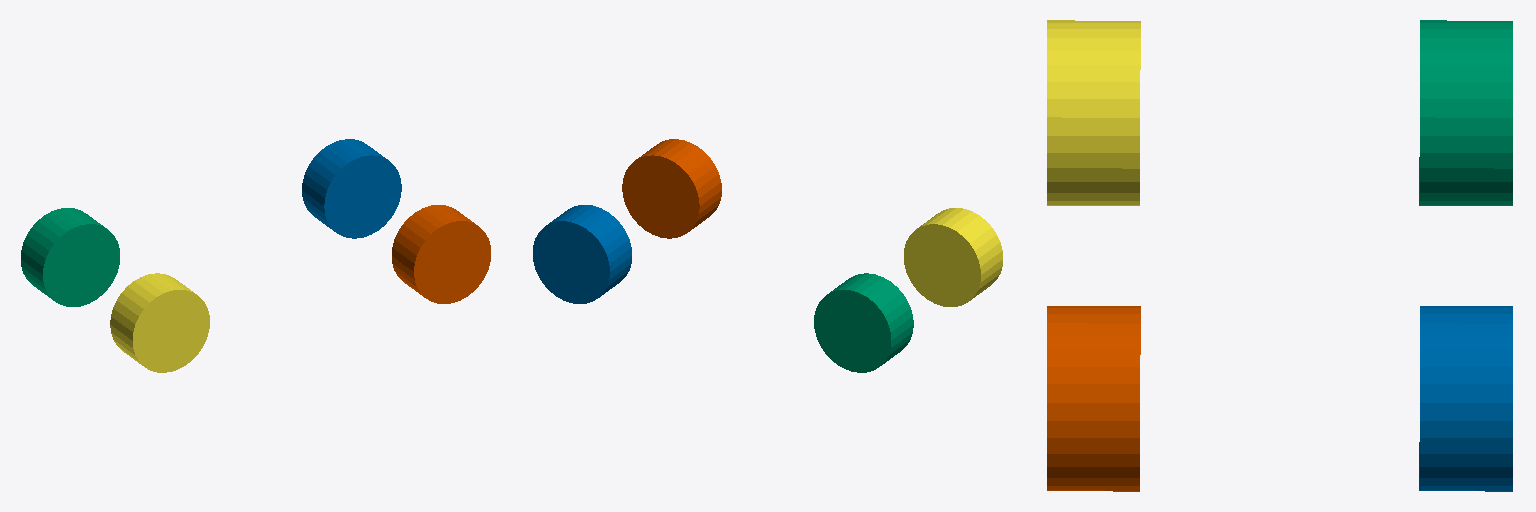
robot.urdf — forklift_robot:
<?xml version="1.0"?>
<robot name="forklift_robot">

  <link name="base_link">
    <origin xyz="-1.0795 -0.5334 0" rpy="0 0 0" />
    <visual>
      <geometry>
        <mesh filename="package://mini_task/model/base_link.dae" />
      </geometry>
    </visual>
    <collision>
      <origin xyz="1.0795 0.5334 1.3716" rpy="0 0 0" />
      <geometry>
        <box size="2.159 1.0668 2.7432" />
      </geometry>
    </collision>
    <inertial>
      <mass value="500" />
      <inertia ixx="206" ixy="0" ixz="-23" iyy="389" iyz="0" izz="316" />
    </inertial>
  </link>

  <link name="fork">
    <origin xyz="1.0795 -0.368600 1" rpy="0 0 0" />
    <visual>
      <geometry>
        <mesh filename="package://mini_task/model/fork.dae" />
      </geometry>
    </visual>
    <collision>
      <geometry>
        <mesh filename="package://mini_task/model/fork.dae" />
      </geometry>
    </collision>
    <inertial>
      <mass value="100" />
      <inertia ixx="0.2" ixy="0" ixz="0" iyy="0.3" iyz="0" izz="0.4" />
    </inertial>
  </link>

  <link name="wheel_back_left">
    <visual>
      <geometry>
        <cylinder radius="0.2" length="0.2" />
      </geometry>
    </visual>
    <collision>
      <geometry>
        <cylinder radius="0.2" length="0.2" />
      </geometry>
    </collision>
    <inertial>
      <mass value="5" />
      <inertia ixx="0.001" ixy="0" ixz="0" iyy="0.0015" iyz="0" izz="0.001" />
    </inertial>
  </link>

  <link name="wheel_back_right">
    <visual>
      <geometry>
        <cylinder radius="0.2" length="0.2" />
      </geometry>
    </visual>
    <collision>
      <geometry>
        <cylinder radius="0.2" length="0.2" />
      </geometry>
    </collision>
    <inertial>
      <mass value="5" />
      <inertia ixx="0.001" ixy="0" ixz="0" iyy="0.0015" iyz="0" izz="0.001" />
    </inertial>
  </link>

  <link name="wheel_front_left">
    <visual>
      <geometry>
        <cylinder radius="0.2" length="0.2" />
      </geometry>
    </visual>
    <collision>
      <geometry>
        <cylinder radius="0.2" length="0.2" />
      </geometry>
    </collision>
    <inertial>
      <mass value="5" />
      <inertia ixx="0.001" ixy="0" ixz="0" iyy="0.0015" iyz="0" izz="0.001" />
    </inertial>
  </link>

  <link name="wheel_front_right">
    <visual>
      <geometry>
        <cylinder radius="0.2" length="0.2" />
      </geometry>
    </visual>
    <collision>
      <origin xyz="0 0 0" rpy="1.5707 0 0" />
      <geometry>
        <cylinder radius="0.2" length="0.2" />
      </geometry>
    </collision>
    <inertial>
      <mass value="5" />
      <inertia ixx="0.001" ixy="0" ixz="0" iyy="0.0015" iyz="0" izz="0.001" />
    </inertial>
  </link>

  <joint name="base_to_fork" type="prismatic">
    <origin rpy="0 0 0" xyz="2.159 0.175 0" />
    <parent link="base_link" />
    <child link="fork" />
    <limit
      lower="0"
      upper="2"
      velocity="0.1"
      effort="100"
    />
    <axis xyz="0 0 1" />
  </joint>

  <joint name="base_to_wheel_back_left" type="continuous">
    <origin xyz="0.3 0.9 0.2" rpy="1.57 0 0" />
    <parent link="base_link" />
    <child link="wheel_back_left" />
    <!-- <limit
      velocity="10"
      effort="1000"
    /> -->
    <axis xyz="0 0 1" />
  </joint>


  <joint name="base_to_wheel_back_right" type="continuous">
    <origin xyz="0.3 0.1 0.2" rpy="01.57 0 0" />
    <parent link="base_link" />
    <child link="wheel_back_right" />
    <!-- <limit
      velocity="10"
      effort="1000"
    /> -->
    <axis xyz="0 0 1" />
  </joint>

  <joint name="base_to_wheel_front_left" type="continuous">
    <origin xyz="1.75 0.9 0.2" rpy="1.57 0 0" />
    <parent link="base_link" />
    <child link="wheel_front_left" />
    <!-- <limit
      velocity="10"
      effort="1000"
    /> -->
    <axis xyz="0 0 1" />
  </joint>

  <joint name="base_to_wheel_front_right" type="continuous">
    <origin xyz="01.75 0.1 0.2" rpy="1.57 0 0" />
    <parent link="base_link" />
    <child link="wheel_front_right" />
    <!-- <limit
      velocity="10"
      effort="1000"
    /> -->
    <axis xyz="0 0 1" />
  </joint>

  <sensor name="camera_sensor" update_rate="20">
    <parent link="base_link" />
    <origin xyz="0 0 1.5" rpy="0 0 0" />
    <camera>
      <image width="640" height="480" hfov="1.5708" format="RGB8" near="0.01" far="50.0" />
    </camera>
  </sensor>

  <sensor name="ray_sensor" update_rate="20">
    <parent link="base_link" />
    <origin xyz="0 0 1.5" rpy="0 0 0" />
    <ray>
      <horizontal samples="100" resolution="1" min_angle="-1.5708" max_angle="1.5708" />
      <vertical samples="1" resolution="1" min_angle="0" max_angle="0" />
    </ray>
  </sensor>
</robot>

--- What the picture shows (computed from the rendered views, not written in the file) ---
The picture shows the robot from 3 angles, left to right: view 1: azimuth 30°, elevation 25°; view 2: azimuth 150°, elevation 25°; view 3: azimuth 270°, elevation 25°; orthographic projection.
Model forklift_robot with 6 links and 5 joints (4 continuous, 1 prismatic), rooted at base_link, posed all joints at 0.
Visible links, largest first — view 1: wheel_back_right, wheel_front_left, wheel_back_left, wheel_front_right; view 2: wheel_back_left, wheel_front_right, wheel_back_right, wheel_front_left; view 3: wheel_back_right, wheel_front_left, wheel_back_left, wheel_front_right.
Link boxes in pixels (x1,y1,x2,y2): wheel_back_right: [110, 273, 209, 372]; wheel_front_left: [302, 139, 401, 238]; wheel_back_left: [21, 208, 119, 306]; wheel_front_right: [392, 205, 490, 303]; wheel_back_left: [814, 273, 913, 372]; wheel_front_right: [622, 139, 721, 238]; wheel_back_right: [904, 208, 1002, 306]; wheel_front_left: [533, 205, 631, 303]; wheel_back_right: [1047, 20, 1140, 205]; wheel_front_left: [1419, 306, 1512, 491]; wheel_back_left: [1419, 20, 1512, 205]; wheel_front_right: [1047, 306, 1140, 491].
Bounding box of the posed robot: 1.85 × 1 × 0.4002 m (x, y, z).
Meshes: 2 distinct files referenced, 0 mesh visuals loaded (none loaded); not drawn: 2 (reference not matched to a file when rendering).